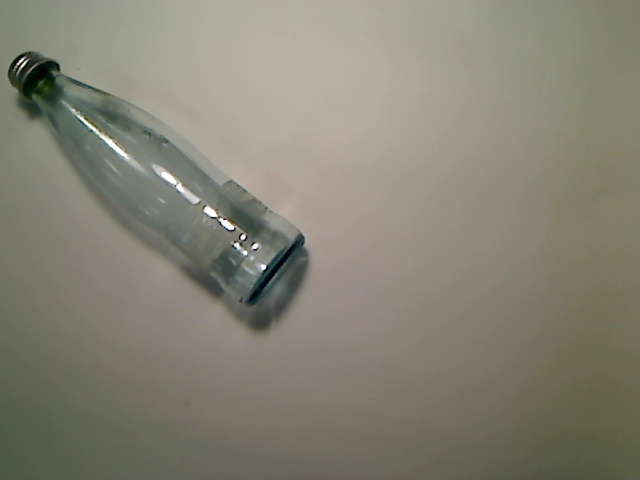bottle: (7, 50, 305, 306)
